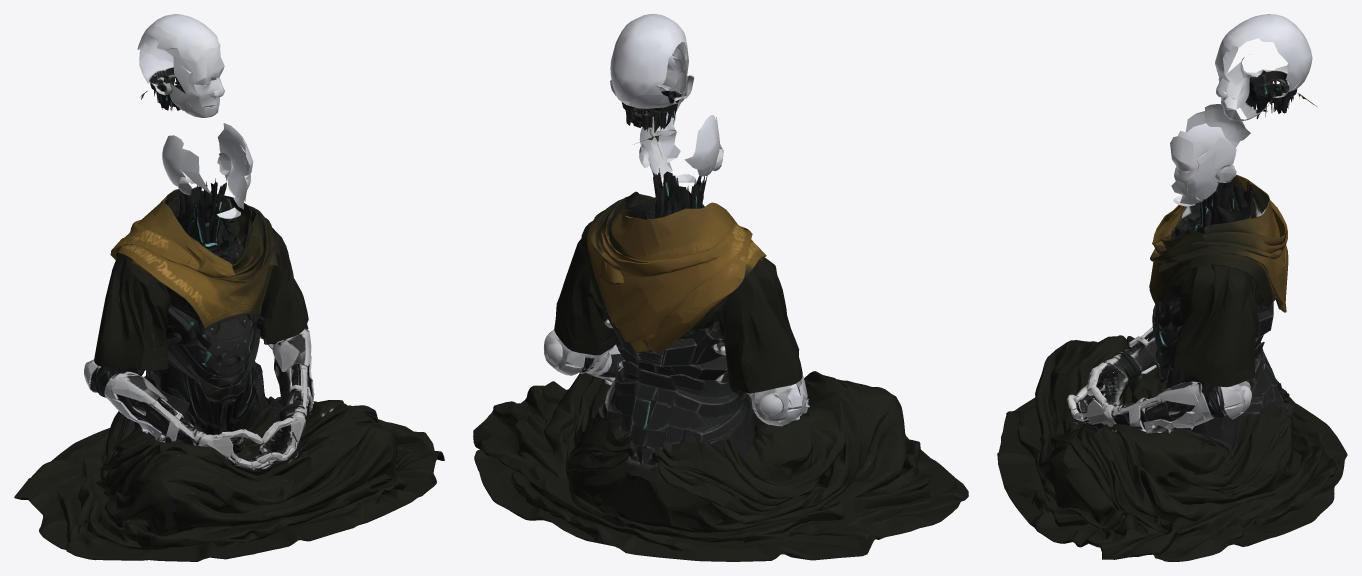
Rendered from npc-zen-zephyr.glb.
3 views of the same model, side by side, from view 1: azimuth 30°, elevation 25°; view 2: azimuth 150°, elevation 25°; view 3: azimuth 270°, elevation 25° (orthographic). The views are drawn at different scales.
Parts seen in each view (by area): view 1: zz:Body, zz:HeadMesh; view 2: zz:Body, zz:HeadMesh; view 3: zz:Body, zz:HeadMesh.
Part boxes in pixels (x1,y1,x2,y2): zz:Body: [14, 123, 444, 561]; zz:HeadMesh: [137, 14, 224, 117]; zz:Body: [473, 103, 968, 561]; zz:HeadMesh: [610, 14, 694, 144]; zz:Body: [997, 104, 1347, 561]; zz:HeadMesh: [1215, 14, 1316, 121].
Size of the model in its own units: 1.9 by 2.03 by 1.44.
Materials: 1 (1 with a texture image).
